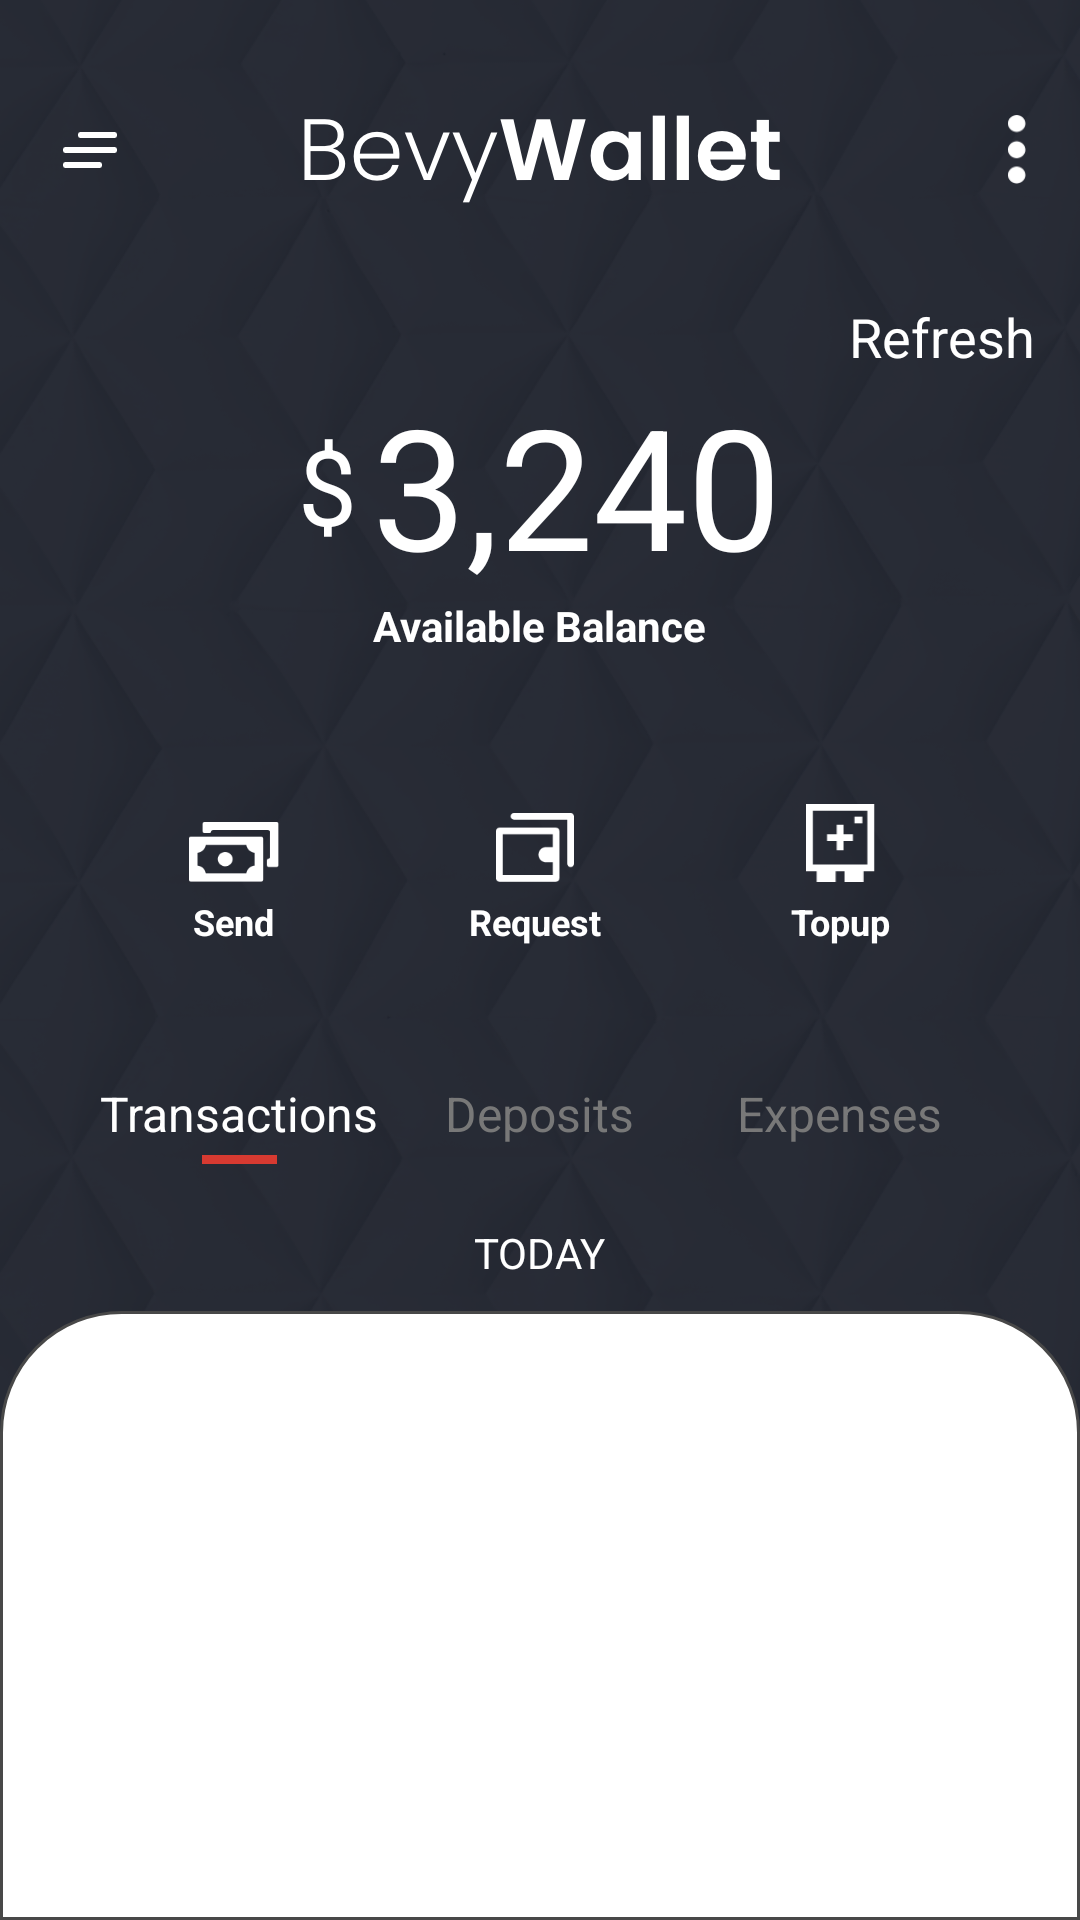

Icon click points for this 1080×1920 phone screenshot, format (x=x, y=y):
leftmenu: (x=90, y=150)
